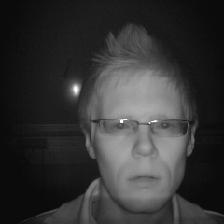normal: (61, 23, 210, 218)
